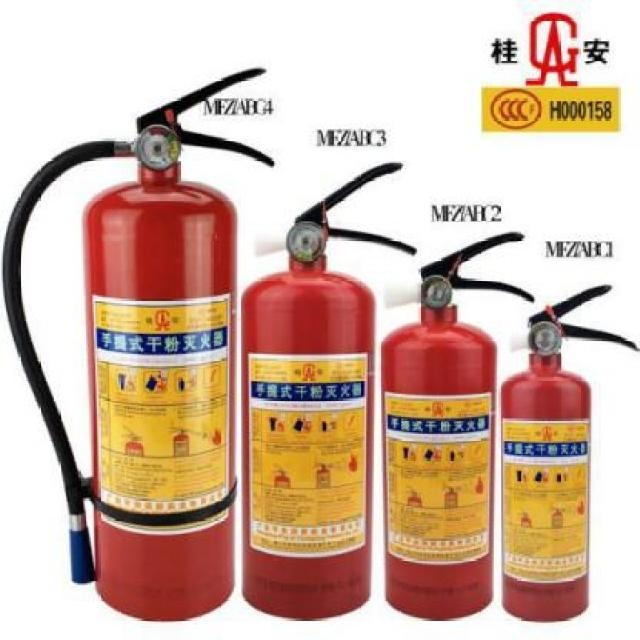fire extinguisher: (2, 66, 275, 623), (239, 162, 418, 620), (378, 230, 537, 621), (500, 284, 640, 621)
